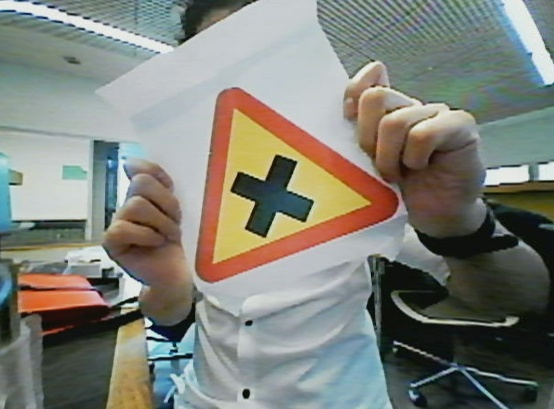junction: (186, 82, 406, 288)
